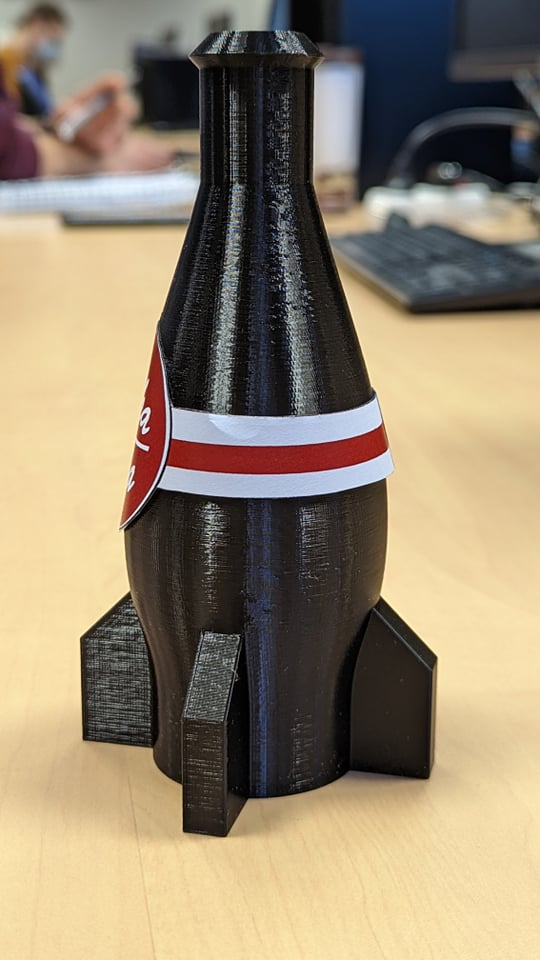bottle: (59, 16, 455, 874)
